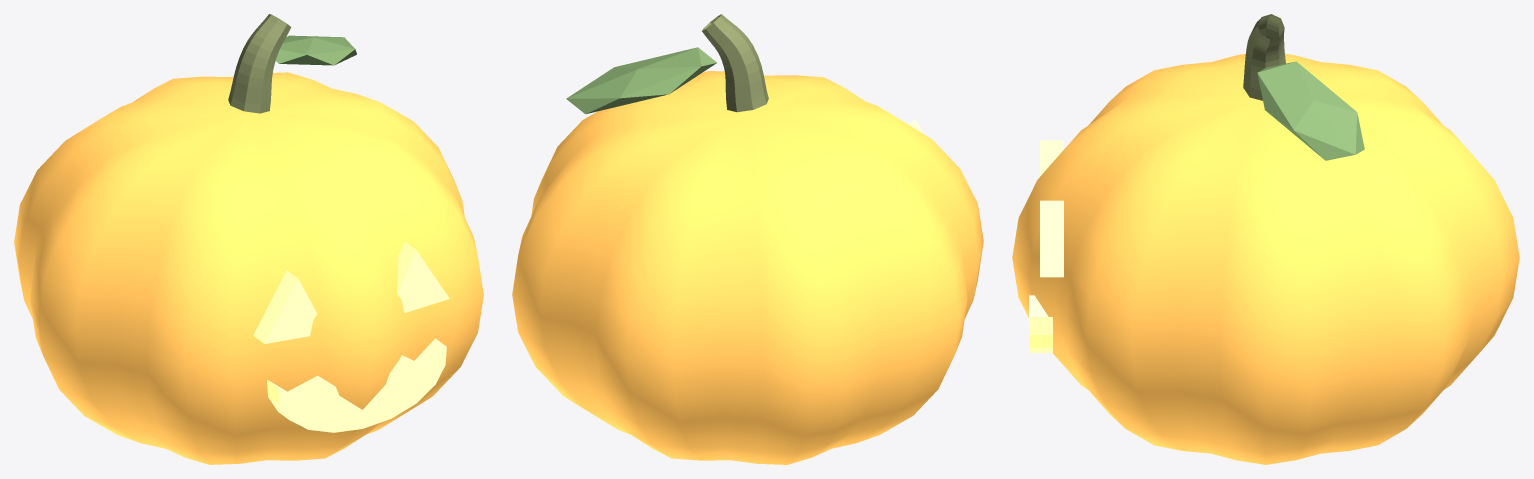
File: halloween_pumpkin.glb
The picture shows the model from 3 angles, left to right: view 1: azimuth 30°, elevation 25°; view 2: azimuth 150°, elevation 25°; view 3: azimuth 270°, elevation 25°; orthographic projection. The views are drawn at different scales.
Visible parts, largest first — view 1: Pumpkin, Glow; view 2: Pumpkin; view 3: Pumpkin, Glow.
Part boxes in pixels (bbox=[...]): Pumpkin: bbox=[14, 14, 483, 464]; Glow: bbox=[253, 241, 449, 432]; Pumpkin: bbox=[512, 14, 983, 464]; Pumpkin: bbox=[1012, 14, 1519, 464]; Glow: bbox=[1029, 140, 1063, 352].
Bounding box in the file's own units: 0.9 × 0.8173 × 0.9.
